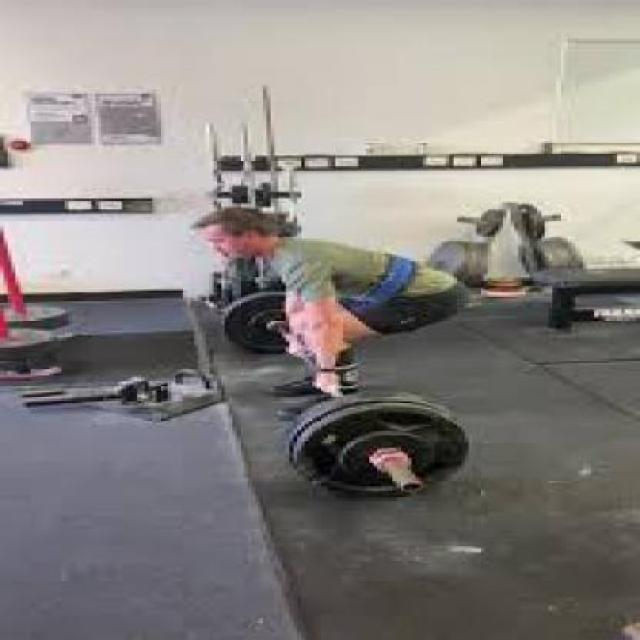barbell: (292, 399, 473, 502)
